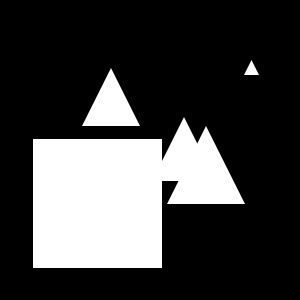circle: (33, 139, 162, 268)
triangle: (167, 126, 245, 204), (152, 117, 216, 181), (82, 68, 140, 126), (244, 60, 259, 75)
